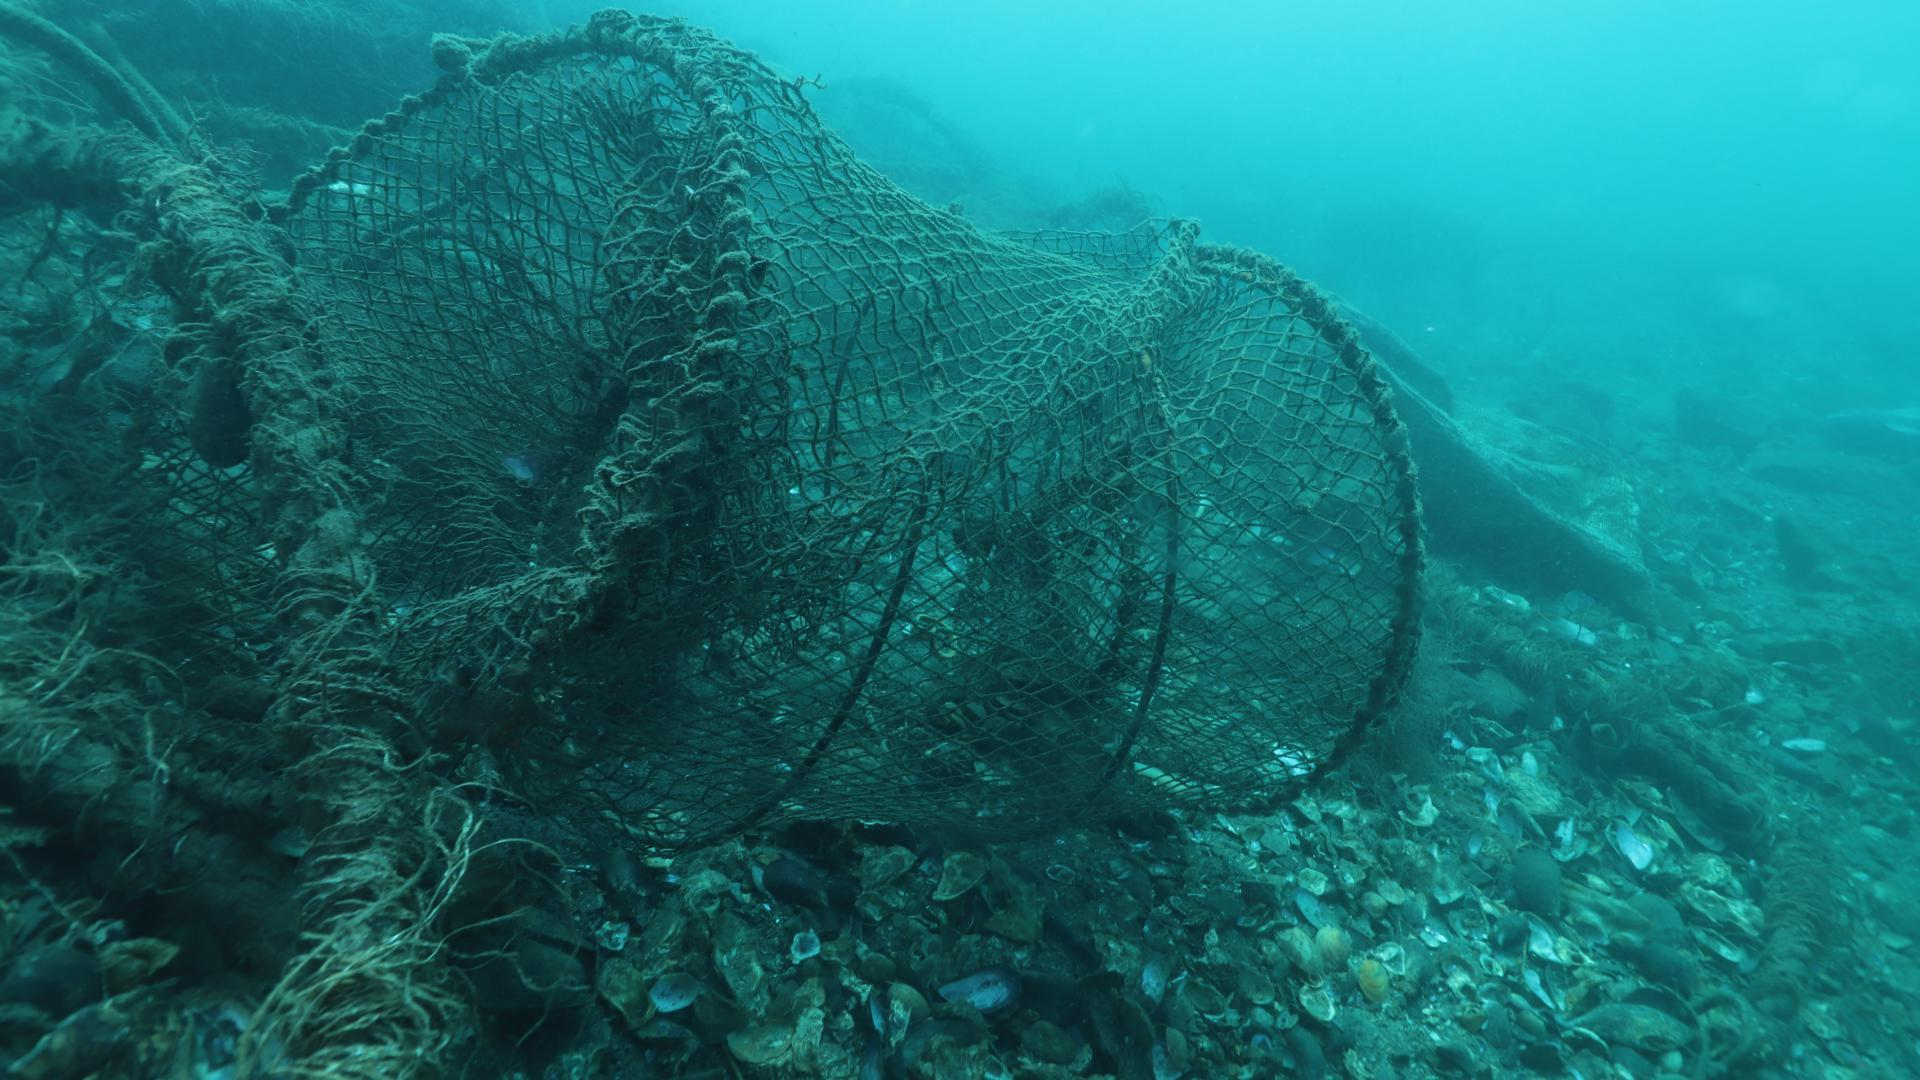spring fish trap: (262, 15, 1432, 848)
